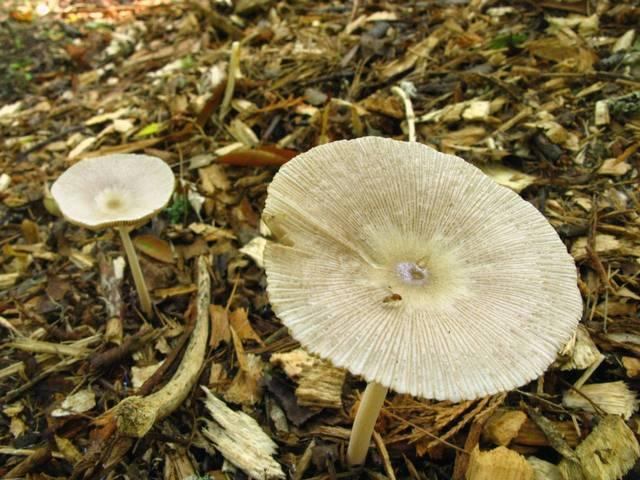Edible Mushroom: (256, 134, 583, 467), (49, 151, 175, 318)
